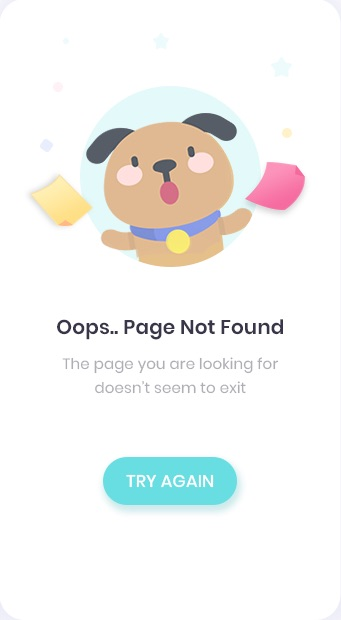Image: (29, 85, 306, 268)
Text: (62, 357, 279, 394), (57, 319, 284, 340)
TextButton: (103, 456, 238, 506)
